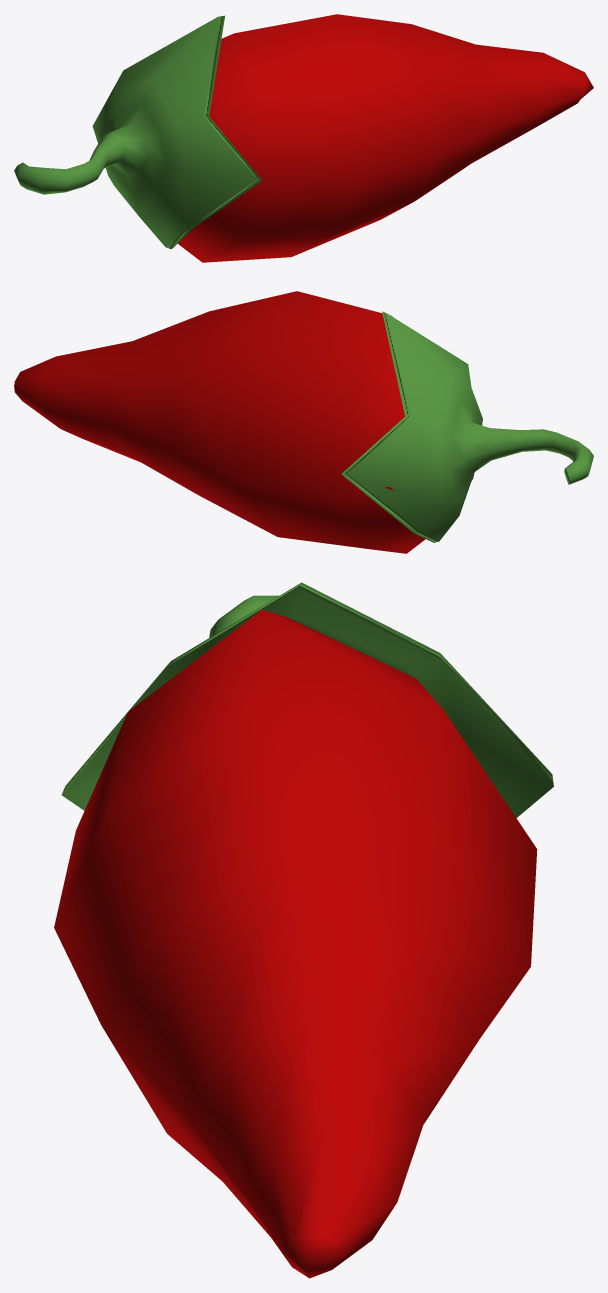
File: Pepper.fbx
The picture shows the model from 3 angles, top to bottom: view 1: azimuth 30°, elevation 25°; view 2: azimuth 150°, elevation 25°; view 3: azimuth 270°, elevation 25°; orthographic projection. The views are drawn at different scales.
Visible parts, largest first — view 1: Pepper1; view 2: Pepper1; view 3: Pepper1.
Boxes of the visible parts, x1=… form: Pepper1: x1=14, y1=14, x2=593, y2=262; Pepper1: x1=14, y1=291, x2=593, y2=553; Pepper1: x1=54, y1=582, x2=553, y2=1278.
Bounding box in the file's own units: 42.55 × 17.74 × 16.07.
